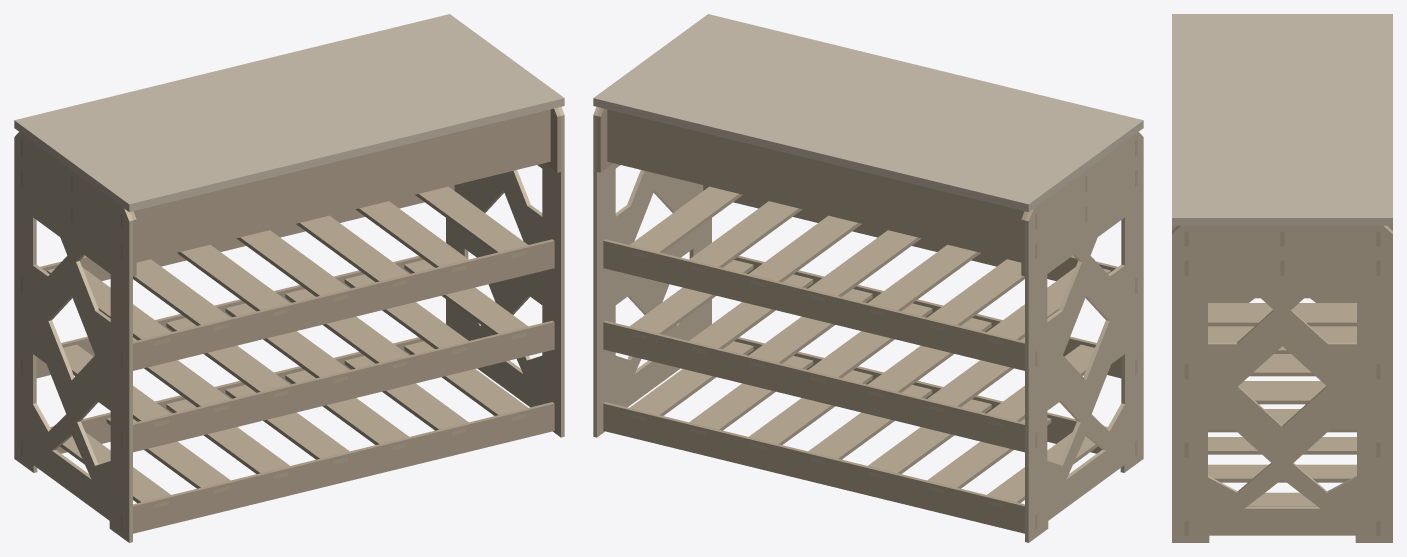
Rendered from shoe-rack-v4-700-design-only.glb.
The picture shows the model from 3 angles, left to right: view 1: azimuth 30°, elevation 25°; view 2: azimuth 150°, elevation 25°; view 3: azimuth 270°, elevation 25°; orthographic projection. The views are drawn at different scales.
Visible parts, largest first — view 1: TOP_UPPER, SIDE_L, TOP_BEAM_1, SIDE_R, RAIL_3_FRONT, RAIL_1_FRONT, RAIL_2_FRONT, SLAT_3_05, SLAT_3_07, SLAT_3_03, SLAT_3_04, SLAT_3_06 (+21 smaller); view 2: TOP_UPPER, SIDE_L, TOP_BEAM_3, SIDE_R, RAIL_3_REAR, RAIL_1_REAR, RAIL_2_REAR, SLAT_3_05, SLAT_3_07, SLAT_3_03, SLAT_3_04, SLAT_3_06 (+21 smaller); view 3: SIDE_R, TOP_UPPER, SLAT_3_06, SLAT_1_06, SLAT_1_05, SLAT_2_06, TOP_LOWER, SLAT_2_05, SLAT_1_07, SLAT_2_03, SLAT_3_07, SLAT_1_03 (+4 smaller).
Boxes of the visible parts, x1,y1,x2,y2 form: TOP_UPPER: (14,14,564,208); SIDE_L: (14,132,132,542); TOP_BEAM_1: (120,109,550,262); SIDE_R: (446,106,564,437); RAIL_3_FRONT: (120,239,554,370); RAIL_1_FRONT: (120,402,554,533); RAIL_2_FRONT: (120,320,554,452); SLAT_3_05: (296,215,408,287); SLAT_3_07: (415,186,527,258); SLAT_3_03: (177,244,289,316); SLAT_3_04: (236,230,349,301); SLAT_3_06: (355,201,468,272); TOP_UPPER: (593,14,1143,208); SIDE_L: (1025,132,1143,542); TOP_BEAM_3: (607,109,1037,262); SIDE_R: (593,106,711,437); RAIL_3_REAR: (603,239,1037,370); RAIL_1_REAR: (603,402,1037,533); RAIL_2_REAR: (603,320,1037,452); SLAT_3_05: (749,215,861,287); SLAT_3_07: (630,186,742,258); SLAT_3_03: (868,244,980,316); SLAT_3_04: (808,230,921,301); SLAT_3_06: (689,201,802,272); SIDE_R: (1172,225,1392,542); TOP_UPPER: (1172,14,1392,221); SLAT_3_06: (1208,308,1356,326); SLAT_1_06: (1208,464,1356,482); SLAT_1_05: (1208,437,1356,454); SLAT_2_06: (1240,386,1324,404); TOP_LOWER: (1172,221,1392,225); SLAT_2_05: (1249,358,1315,376); SLAT_1_07: (1247,492,1317,506); SLAT_2_03: (1208,303,1356,308); SLAT_3_07: (1208,336,1356,353); SLAT_1_03: (1239,381,1325,386).
Bounding box in the file's own units: 0.7 × 0.52 × 0.32.
